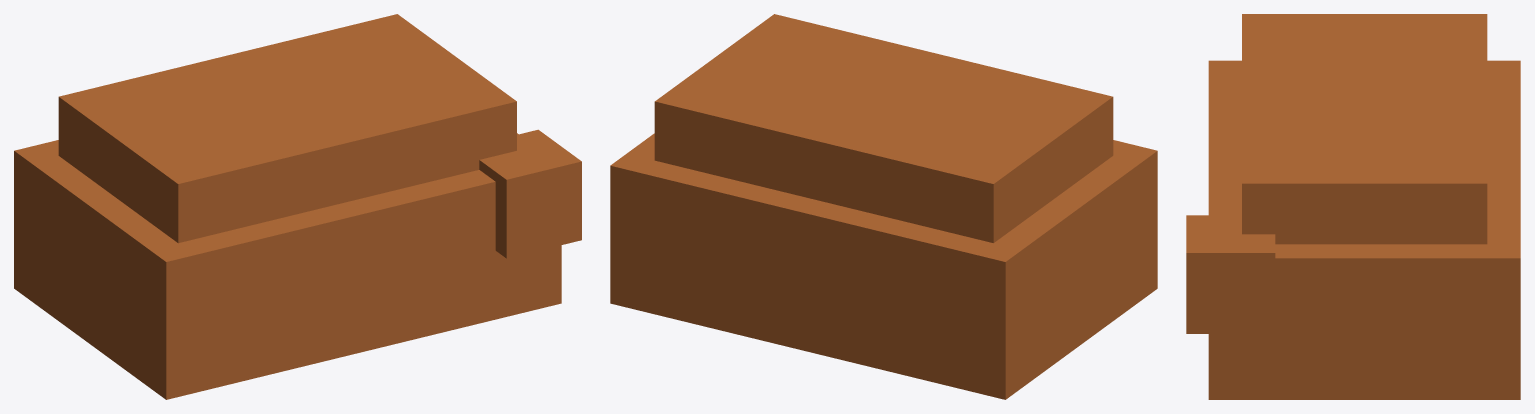
File: product_grilled_fillet.glb
3 views of the same model, side by side, from view 1: azimuth 30°, elevation 25°; view 2: azimuth 150°, elevation 25°; view 3: azimuth 270°, elevation 25° (orthographic). The views are drawn at different scales.
Visible parts, largest first — view 1: product.grilled_fillet; view 2: product.grilled_fillet; view 3: product.grilled_fillet.
Boxes of the visible parts, left/top/right/bottom form: product.grilled_fillet: left=14, top=14, right=581, bottom=399; product.grilled_fillet: left=610, top=14, right=1157, bottom=399; product.grilled_fillet: left=1186, top=14, right=1520, bottom=399.
Bounding box in the file's own units: 0.24 × 0.1116 × 0.1674.
